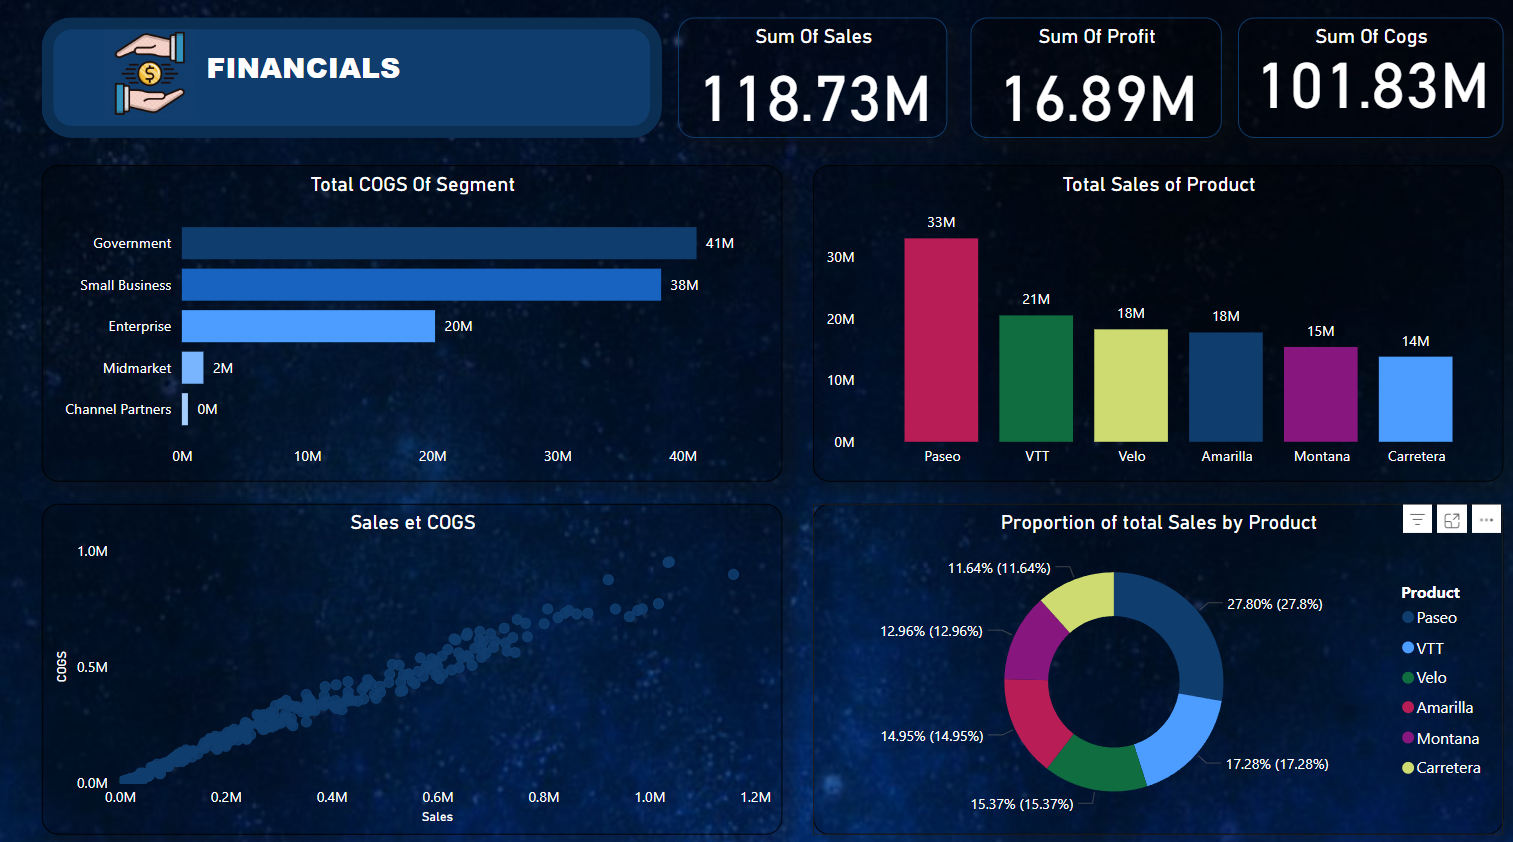

What the dashboard file says about the page in this screenshot:
{"tool":"powerbi","page":{"name":"Page 1","canvas":[1280,720],"ordinal":0},"visuals":[{"type":"card","title":"Sum Of Profit","fields":{"Values":["Sum(financials.Profit)"]},"box":[819.9,19.3,212,101.5],"z":0},{"type":"card","title":"Sum Of Sales","fields":{"Values":["Sum(financials. Sales)"]},"box":[573.2,19.3,227.5,101.5],"z":1000},{"type":"card","title":"Sum Of Cogs","fields":{"Values":["Sum(financials.COGS)"]},"box":[1046.1,19.3,223.6,101.5],"z":2000},{"type":"barChart","title":"Total COGS Of  Segment","fields":{"Category":["financials.Segment"],"Y":["Sum(financials.COGS)"]},"box":[37.3,143.9,624.6,267.3],"z":3000},{"type":"columnChart","title":"Total Sales of Product","fields":{"Category":["financials.Product"],"Y":["Sum(financials. Sales)"]},"box":[687.6,143.9,582.2,267.3],"z":4000},{"type":"scatterChart","fields":{"X":["financials. Sales"],"Y":["financials.COGS"]},"box":[37.3,429.2,624.6,278.9],"z":5000},{"type":"donutChart","title":"Proportion of total Sales by Product","fields":{"Category":["financials.Product"],"Y":["Sum(financials. Sales)"]},"box":[687.6,429.2,582.2,278.9],"z":6000},{"type":"shape","box":[37.3,19.3,523.1,101.5],"z":7000},{"type":"textbox","box":[170.9,38.6,260.9,55.3],"z":8000},{"type":"image","box":[74.5,23.1,106.7,86.1],"z":8001}]}

Visuals, with their boxes in screenshot pixels (x1, y1, x2, y2), scaled from the page's 1280x720 canvas onto the 1513x842 screenshot:
"Sum Of Profit" card: [969, 23, 1220, 141]
"Sum Of Sales" card: [678, 23, 946, 141]
"Sum Of Cogs" card: [1237, 23, 1501, 141]
"Total COGS Of  Segment" barChart: [44, 168, 782, 481]
"Total Sales of Product" columnChart: [813, 168, 1501, 481]
scatterChart - financials. Sales x financials.COGS: [44, 502, 782, 828]
"Proportion of total Sales by Product" donutChart: [813, 502, 1501, 828]
shape: [44, 23, 662, 141]
textbox: [202, 45, 510, 110]
image: [88, 27, 214, 128]
